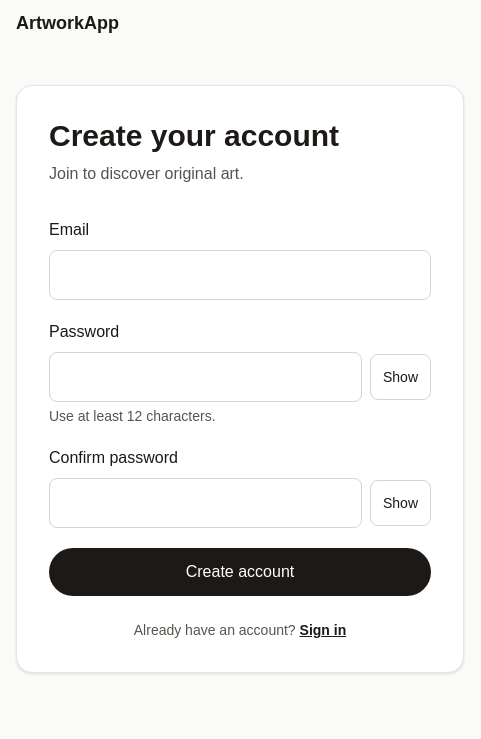
Test: email authentication › rejects invalid input and confirmation mismatch before a request
This screenshot has width=481, height=739.
Click the button "Create account" at (240, 572), box [49,548,431,596]
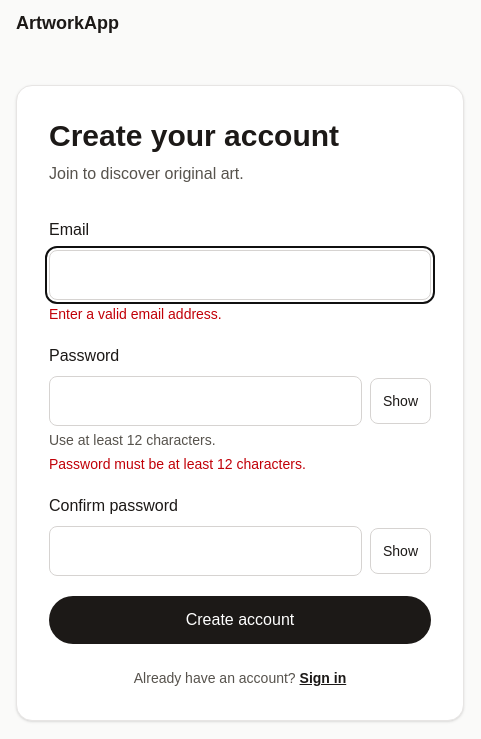
Result: the text "Enter a valid email address." is shown at [49,306,222,322]
Type "person@example.com" into the field labelled "Email" at (240, 275), box [49,250,431,300]
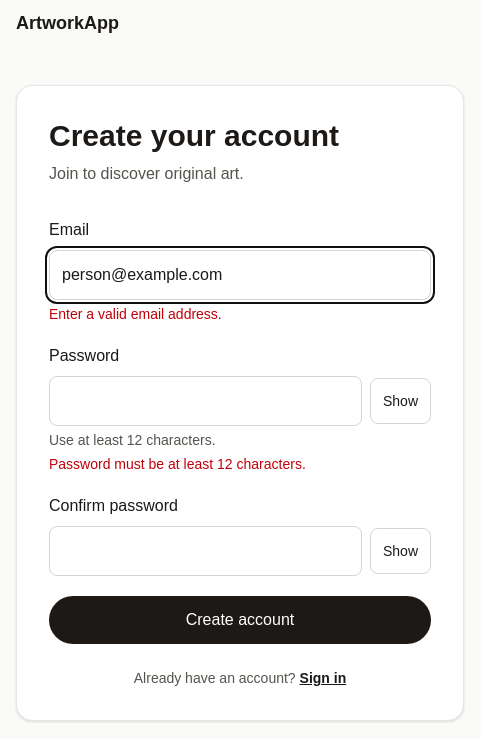
Type "long-password-123" into the password field labelled "Password" at (206, 401), box [49,376,362,426]
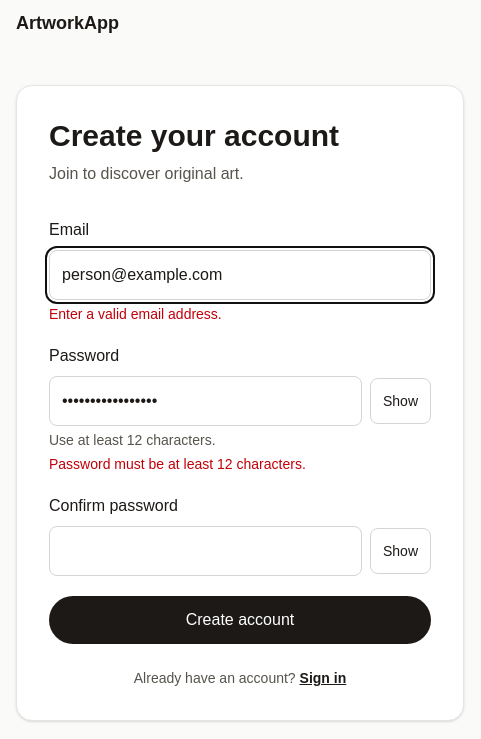
Type "different-password-123" into the password field labelled "Confirm password" at (206, 551), box [49,526,362,576]
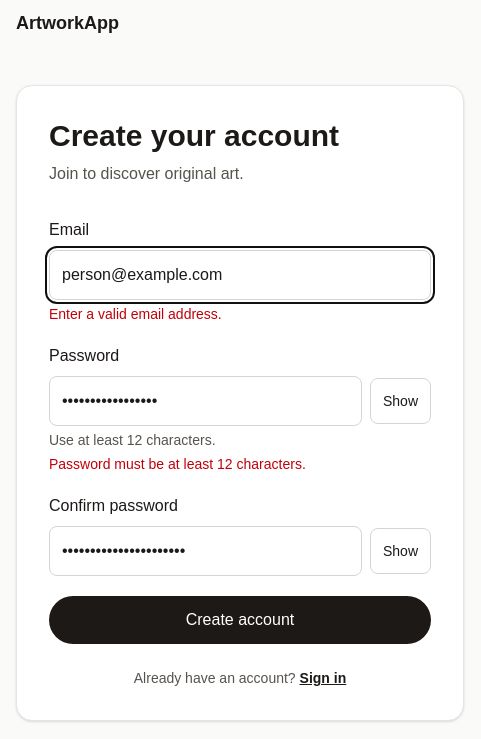
Click the button "Create account" at (240, 620), box [49,596,431,644]
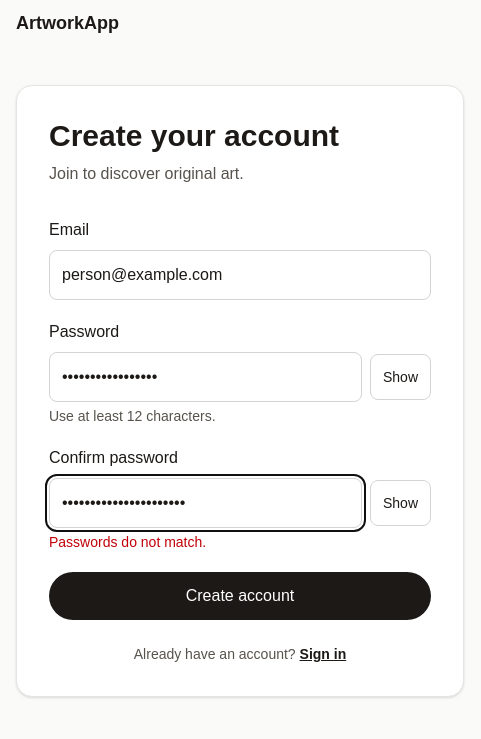
Result: the text "Passwords do not match." is shown at [49,534,206,550]
